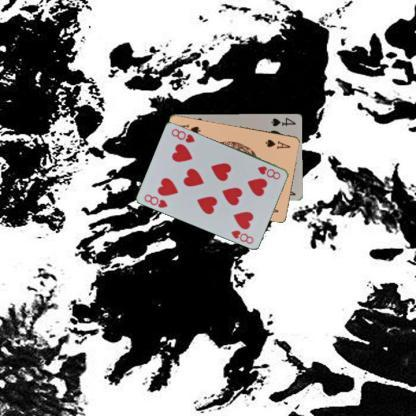4s: (269, 115, 297, 127)
8h: (142, 191, 170, 209), (255, 163, 282, 181)
As: (263, 137, 292, 150)
